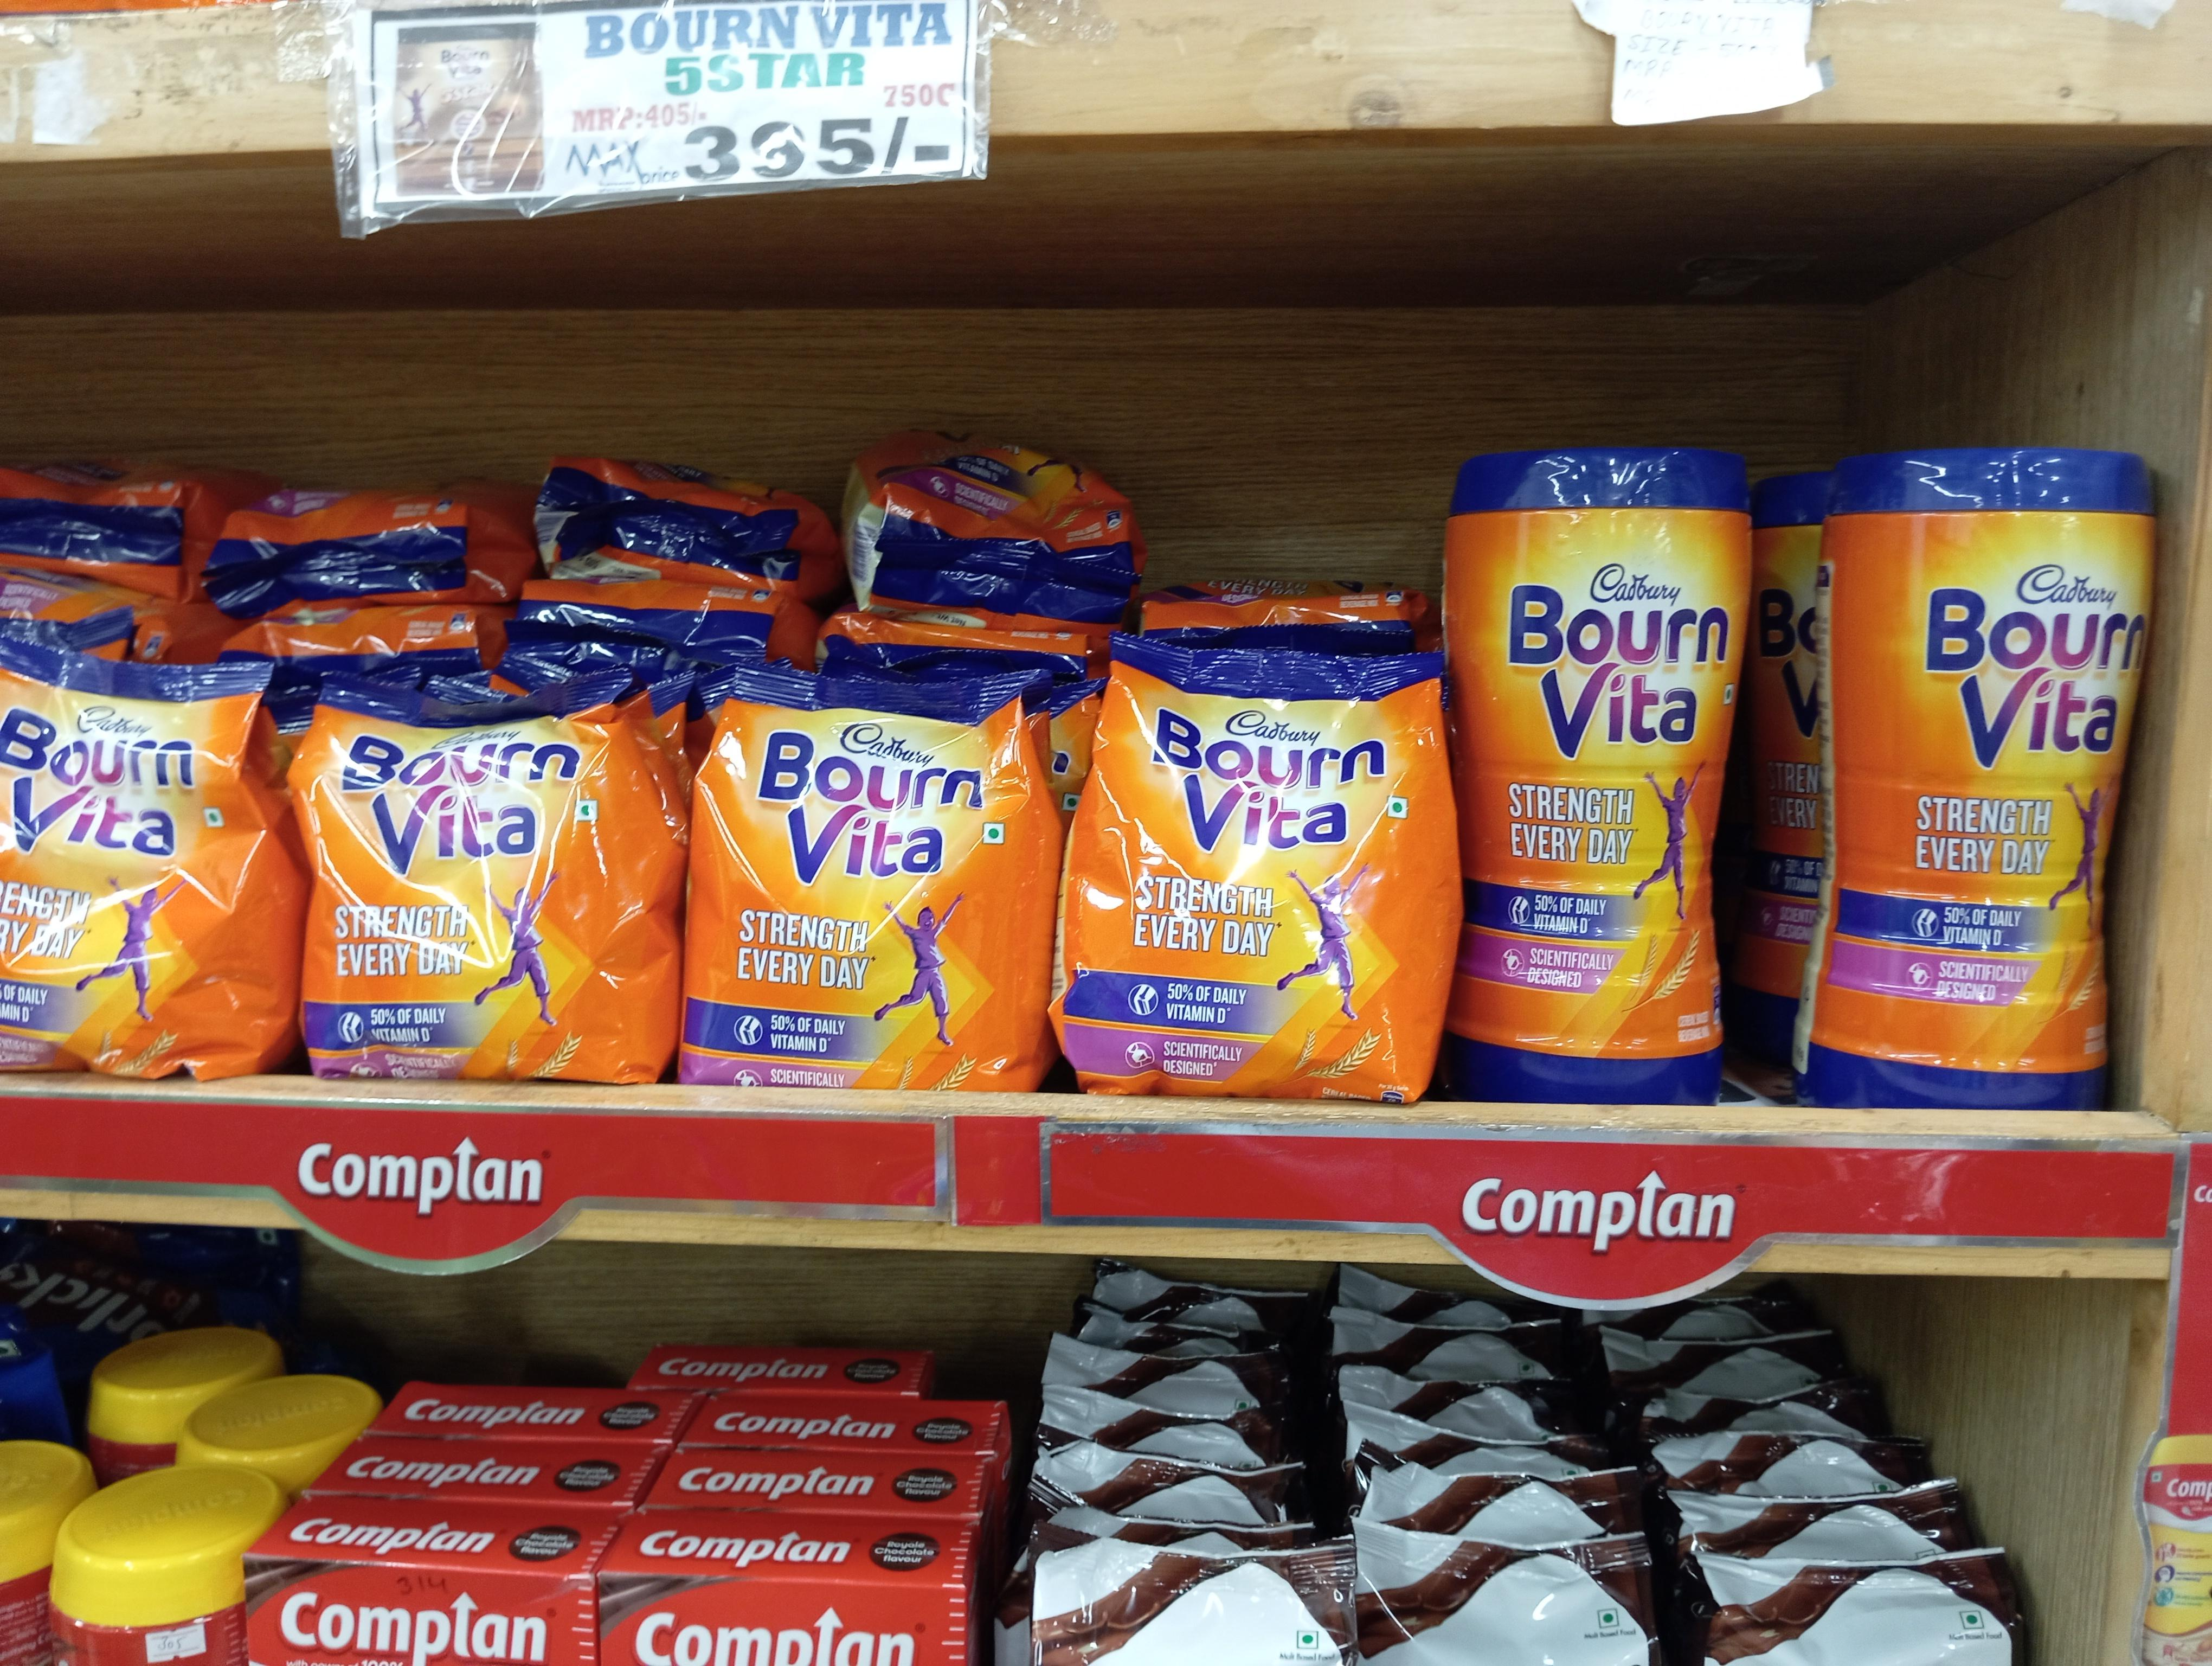BOURN_VITA_1_KG_JAR: (1815, 427, 2107, 1102), (1458, 457, 1726, 1104)
BOURN_VITA_500_G_POUCH: (1072, 616, 1453, 1113), (304, 661, 661, 1085), (691, 660, 1033, 1089), (0, 626, 289, 1089)
